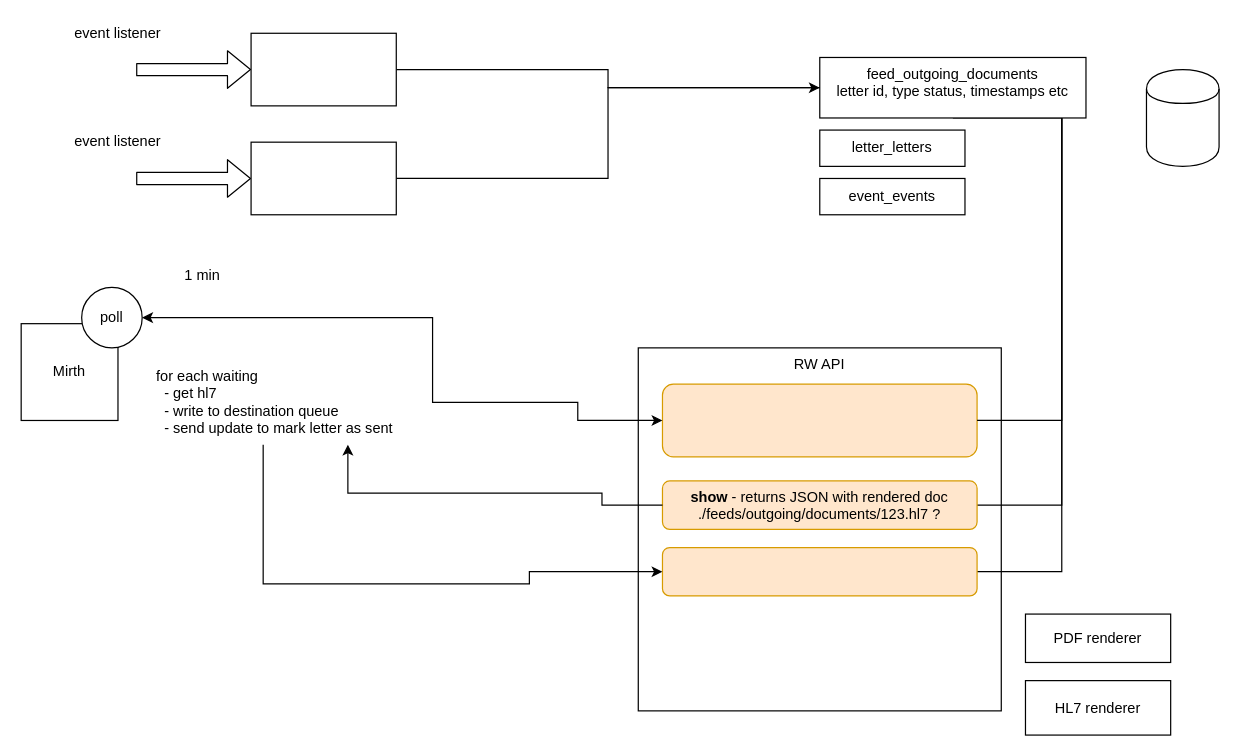
Some shapes in this 1240 by 756 pixel diagram are drawn without their labels. The shapes that lost their labels are listed below. From the top down, each one's centre as x and y in pixels, then its label:
At [323,69]: "event_created".
At [323,178]: "letter approved".
At [819,420]: "index - returns JSON of things to fetch ./feeds/outgoing/documents/idex.json".
At [819,571]: "update - sets status to processed? ./feeds/outgoing/documents/123.hl7 ?".
